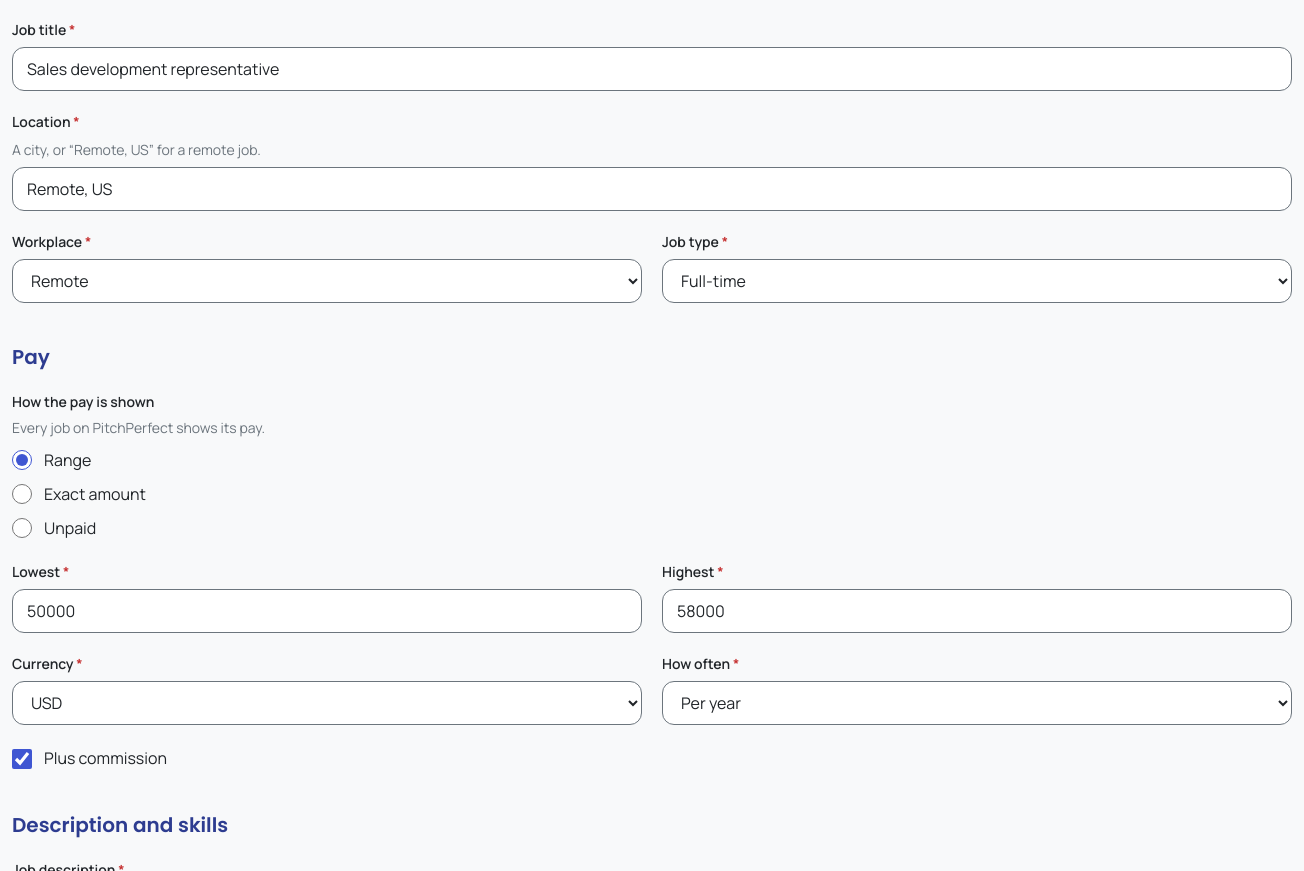
Test: JobForm › asks for pay amounts that are left empty
Clear the field labelled "Lowest *" at [327, 611], box [12,589,642,633]
(page scrolled)
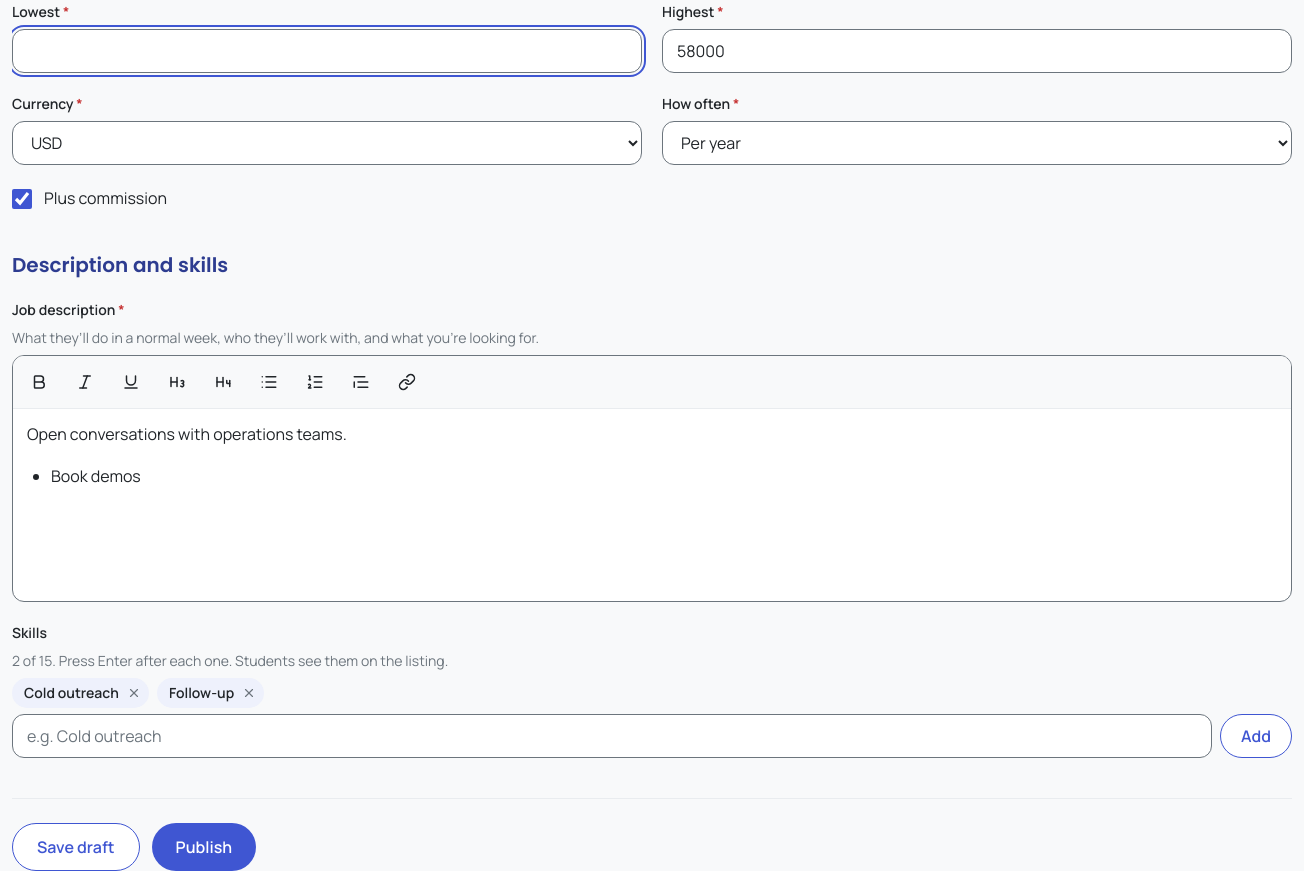
Click the button "Publish" at [204, 847], box [152,823,256,870]
(page scrolled)
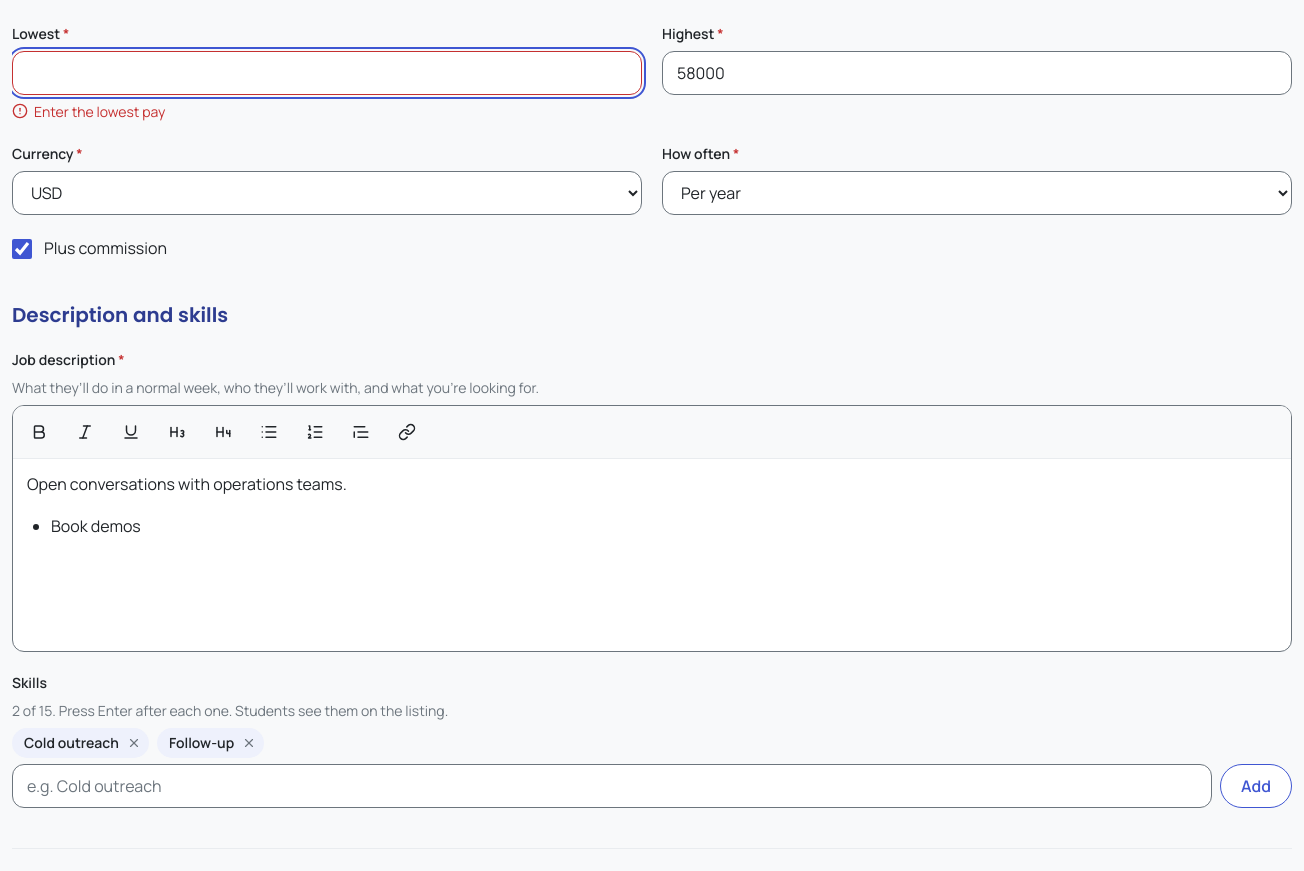
Expected: the text "Enter the lowest pay" is shown, [34,101,165,123]
